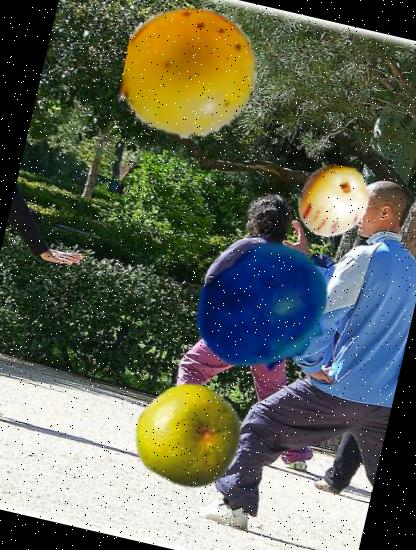Grape: (111, 0, 269, 151)
Huckleberry: (182, 226, 350, 394)
Pepino: (290, 157, 378, 246)
Pomelo: (125, 371, 251, 497)
